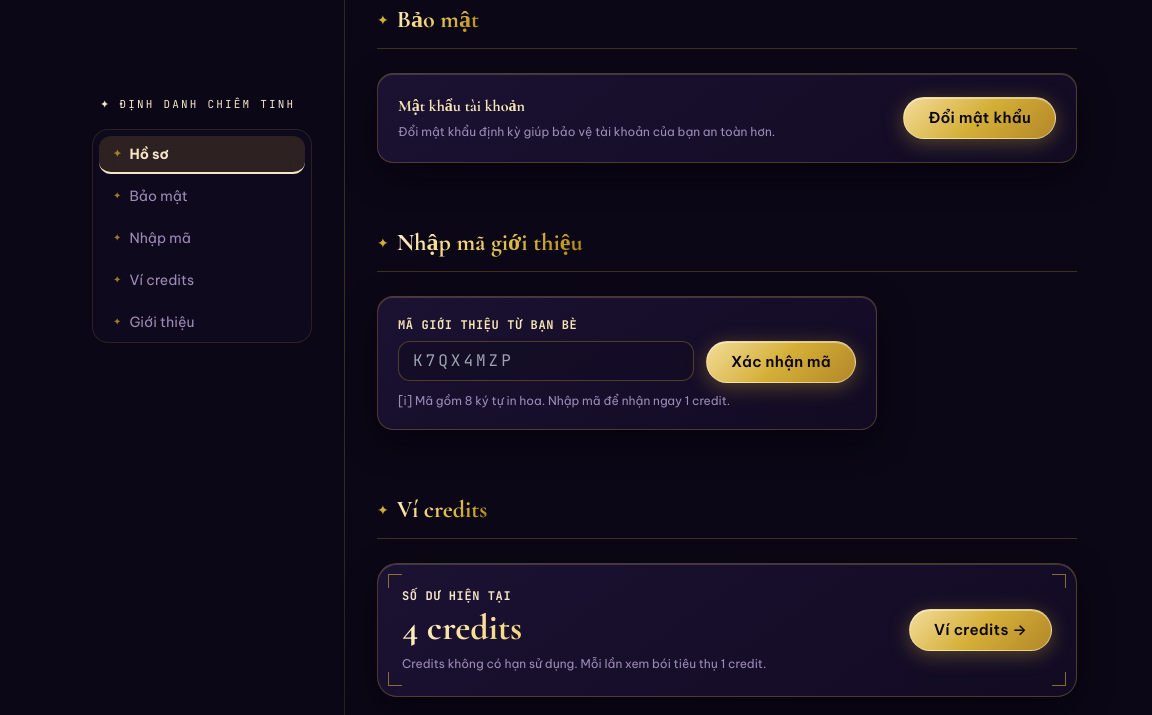
Account Page › Nhập mã giới thiệu Section (#nhap-ma) › should submit referral code, update balance, and display success alert
This screenshot has width=1152, height=715.
(page scrolled)
Step 1. Type "abcdef23" into the field with placeholder "K7QX4MZP" → (546, 360), box [398,340,694,380]
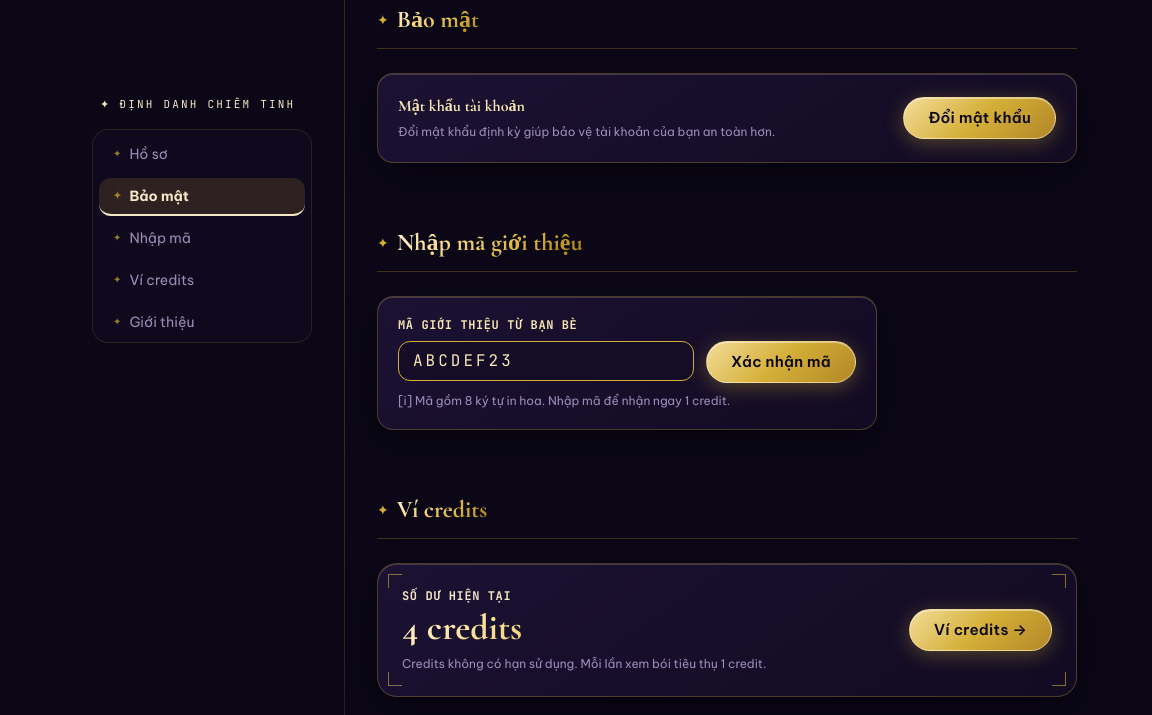
Step 2. Click the button "Xác nhận mã" → (781, 362), box [706,340,856,382]
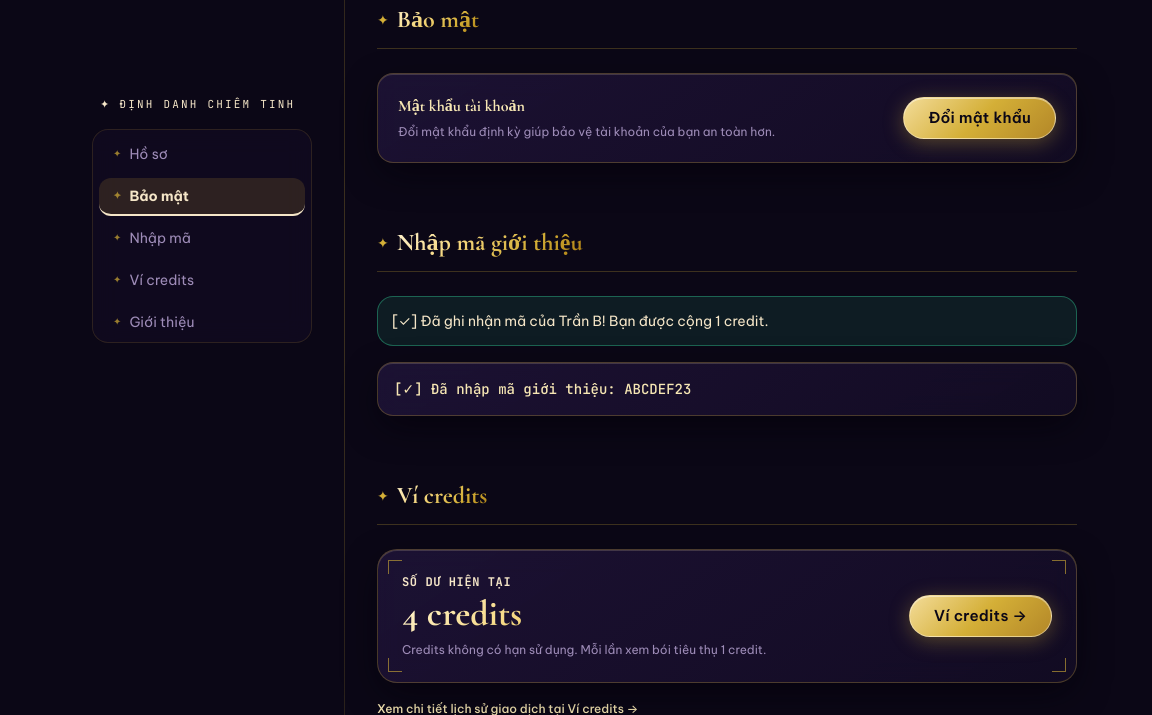
expect the text "[✓] Đã ghi nhận mã của Trần B! Bạn được cộng 1 credit." is shown: met, box [377,296,1077,346]
expect the text "[✓] Đã nhập mã giới thiệu: ABCDEF23" is shown: met, box [377,362,1077,416]
